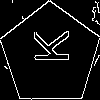K: (25, 30, 70, 64)
